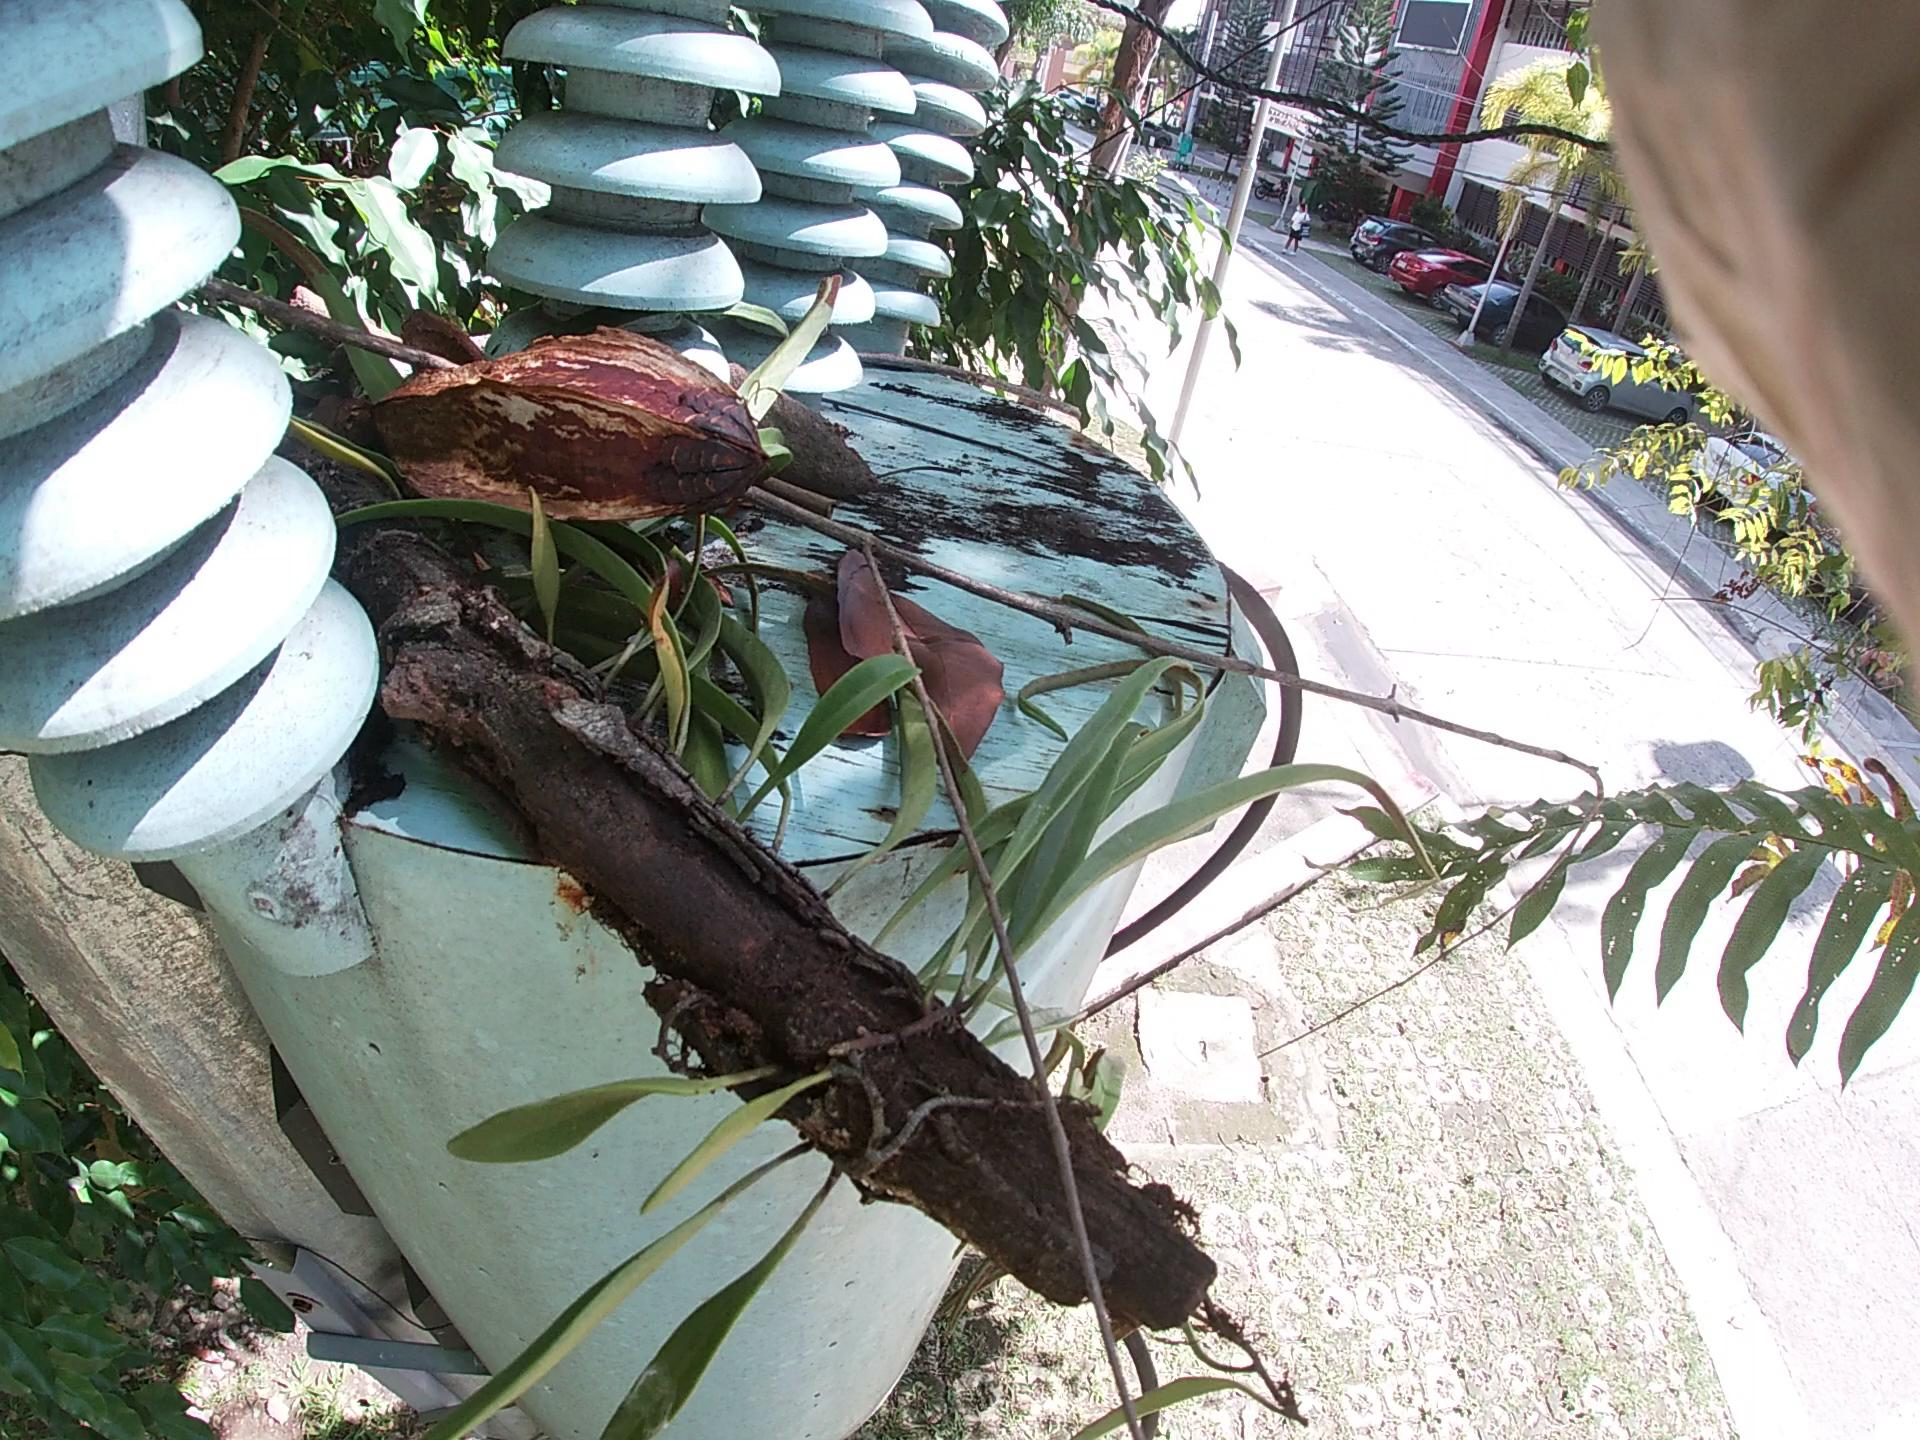branch with leaves: (544, 277, 1214, 1336)
leaf: (788, 476, 1144, 812)
mahogany fruit: (367, 342, 792, 529), (659, 280, 965, 540), (777, 284, 1134, 455)
tree branch: (470, 295, 1439, 755)
